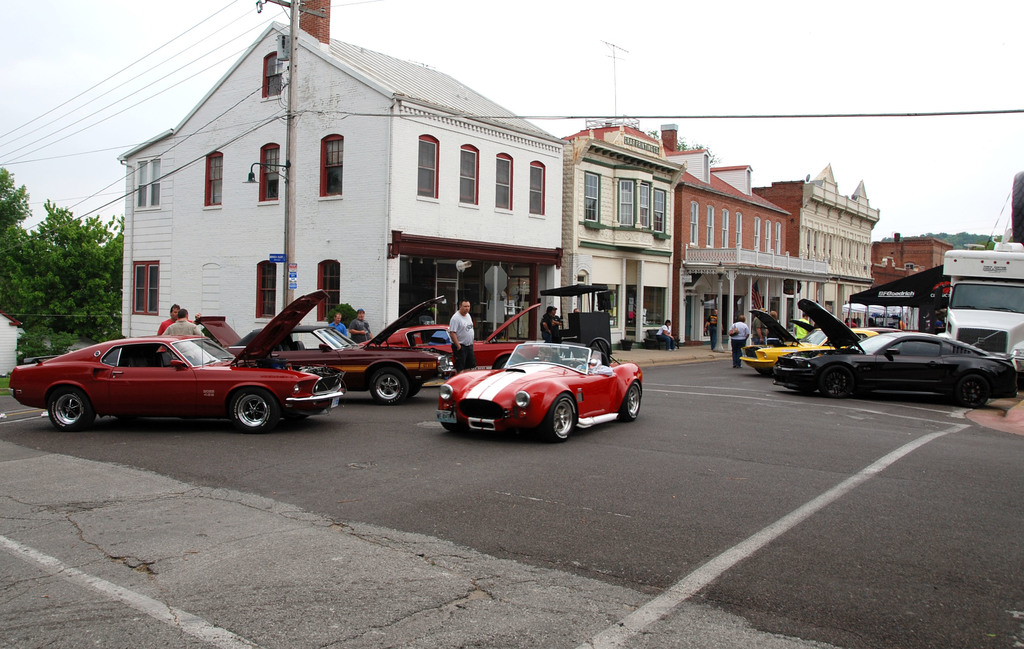mobil: (3, 330, 345, 428), (430, 348, 652, 453), (774, 334, 1019, 424)
